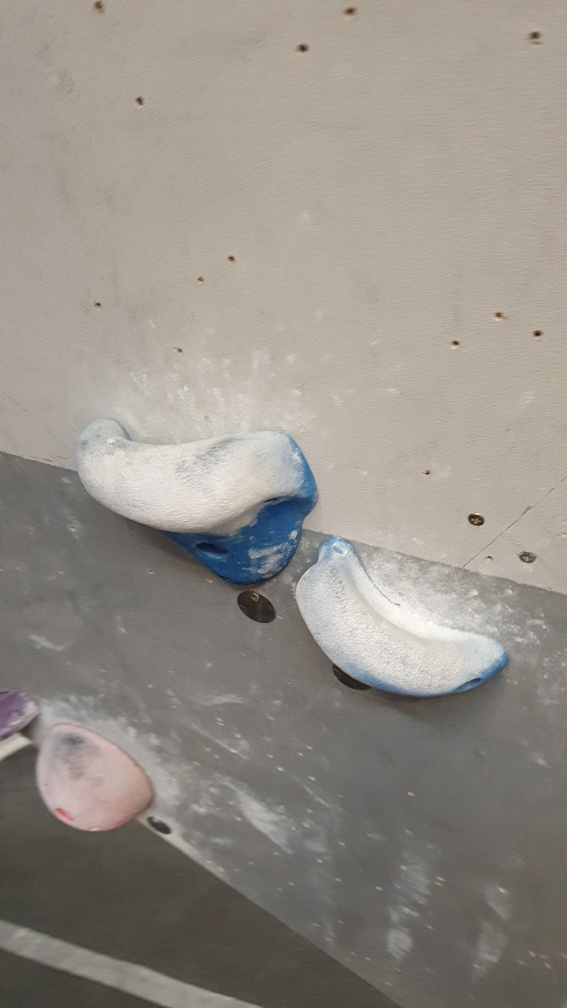Hand Start: (237, 588, 278, 625)
Jug: (75, 415, 317, 589), (294, 535, 512, 699)
Sloper: (32, 717, 158, 836)
